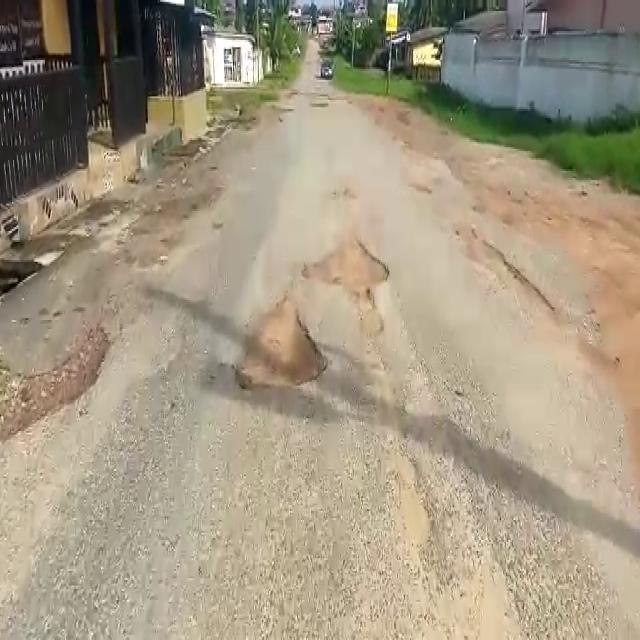pothole: (0, 308, 114, 451), (232, 305, 333, 394), (301, 236, 391, 285)
